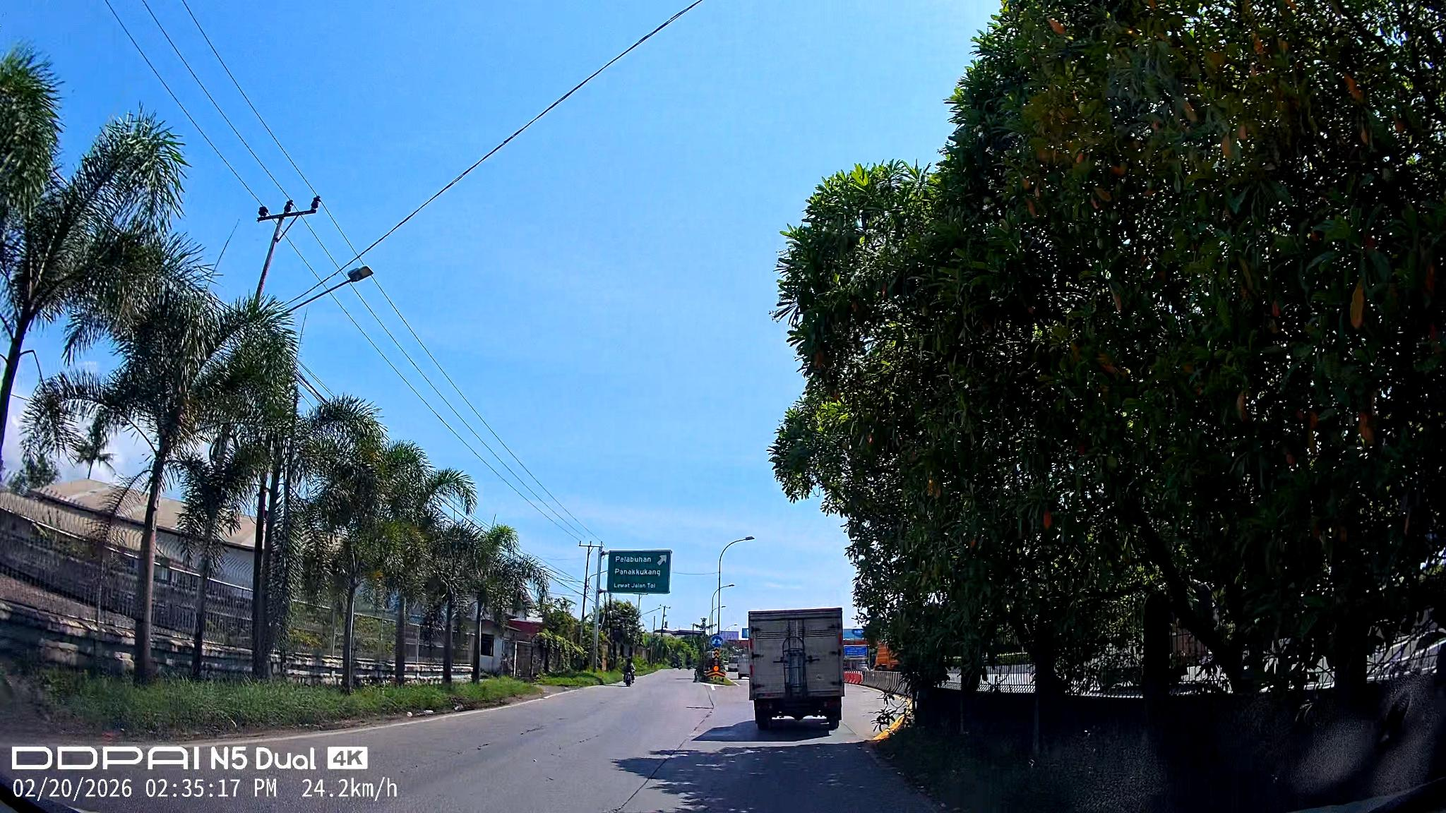rambu_teks: (606, 549, 672, 595)
